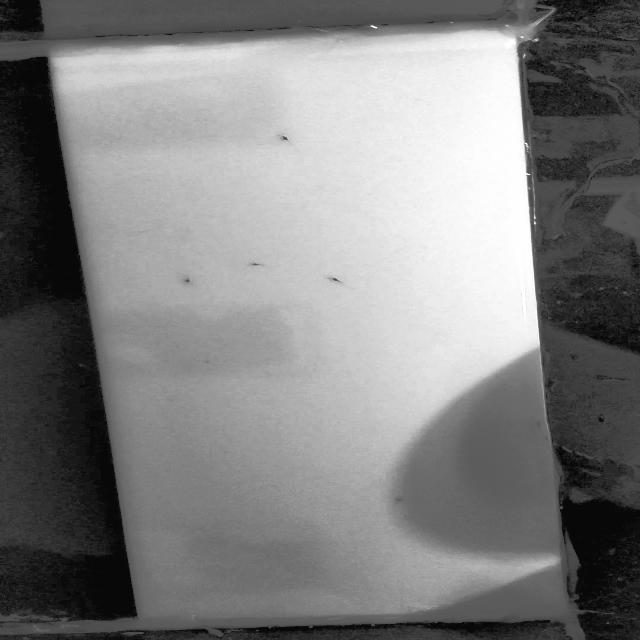shrimp: (374, 486, 418, 512), (160, 274, 229, 289), (314, 264, 354, 289), (230, 255, 282, 272), (256, 130, 302, 146)
